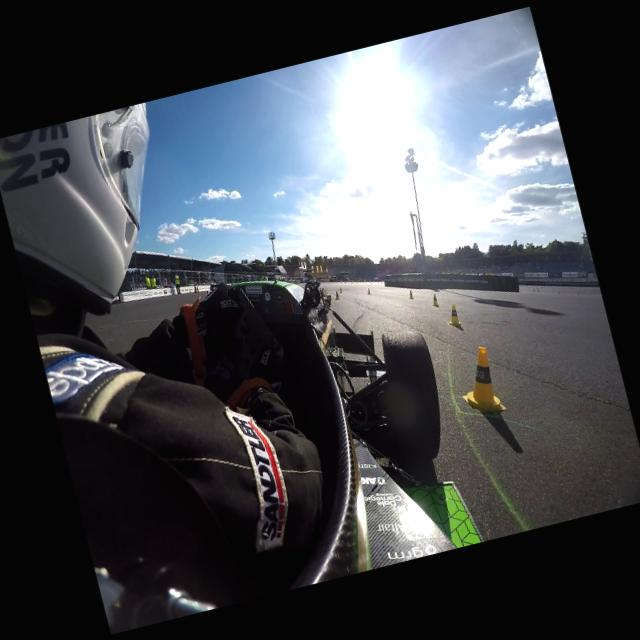yellow_cone: (451, 343, 506, 418), (445, 303, 460, 325), (430, 292, 439, 308), (332, 290, 340, 300), (408, 289, 413, 299), (366, 288, 371, 294), (338, 287, 342, 293)
